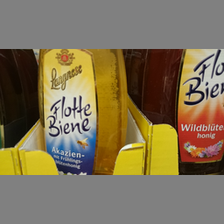honey: (39, 49, 127, 175), (147, 48, 223, 174)
